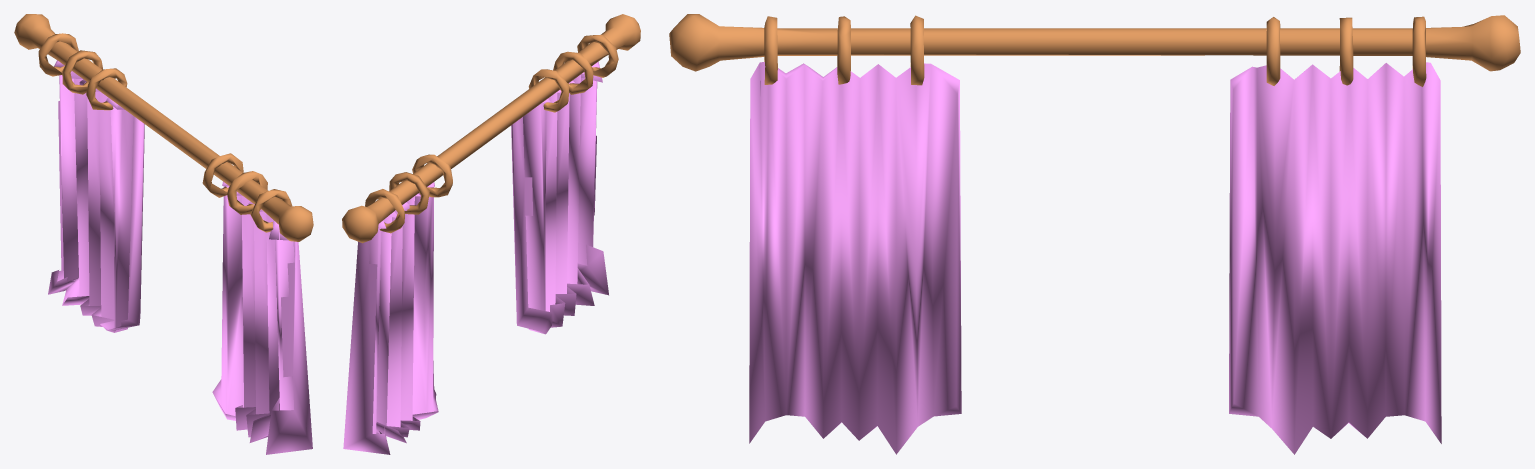
The model's file is curtains.glb.
3 renders of one model, left to right at view 1: azimuth 30°, elevation 25°; view 2: azimuth 150°, elevation 25°; view 3: azimuth 270°, elevation 25°, orthographic. The views are drawn at different scales.
Parts seen in each view (by area): view 1: curtains, curtains.001; view 2: curtains, curtains.001; view 3: curtains, curtains.001.
Boxes of the visible parts, x1,y1,x2,y2 form: curtains: (48, 60, 312, 454); curtains.001: (14, 14, 313, 241); curtains: (343, 61, 608, 454); curtains.001: (342, 14, 640, 243); curtains: (749, 62, 1441, 454); curtains.001: (669, 14, 1520, 86).
Bounding box in the file's own units: 0.4186 × 2 × 3.69.
